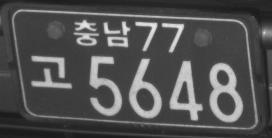4: (168, 58, 203, 122)
5: (87, 54, 123, 117)
6: (127, 57, 163, 119)
7: (160, 20, 185, 53), (134, 20, 159, 52)
8: (207, 61, 244, 124)
고: (30, 54, 73, 89)
충남_O: (73, 18, 131, 48)
